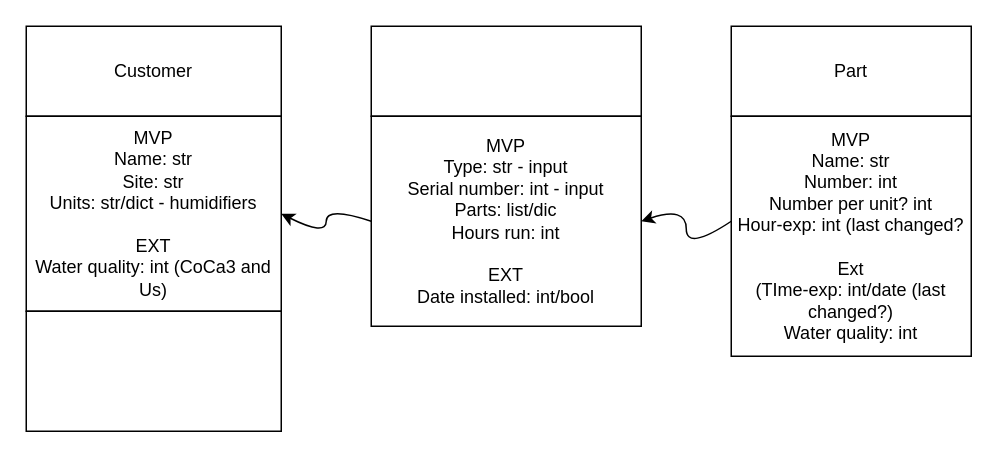
This 998x458 diagram has some shape labels left out. The shapes that lost their labels are listed below. From the top down, each one's box as (x1, y1, x2, y2) in pixels, then its label:
(370, 25, 641, 116): Unit
(25, 310, 281, 431): add_hum_to_customer
